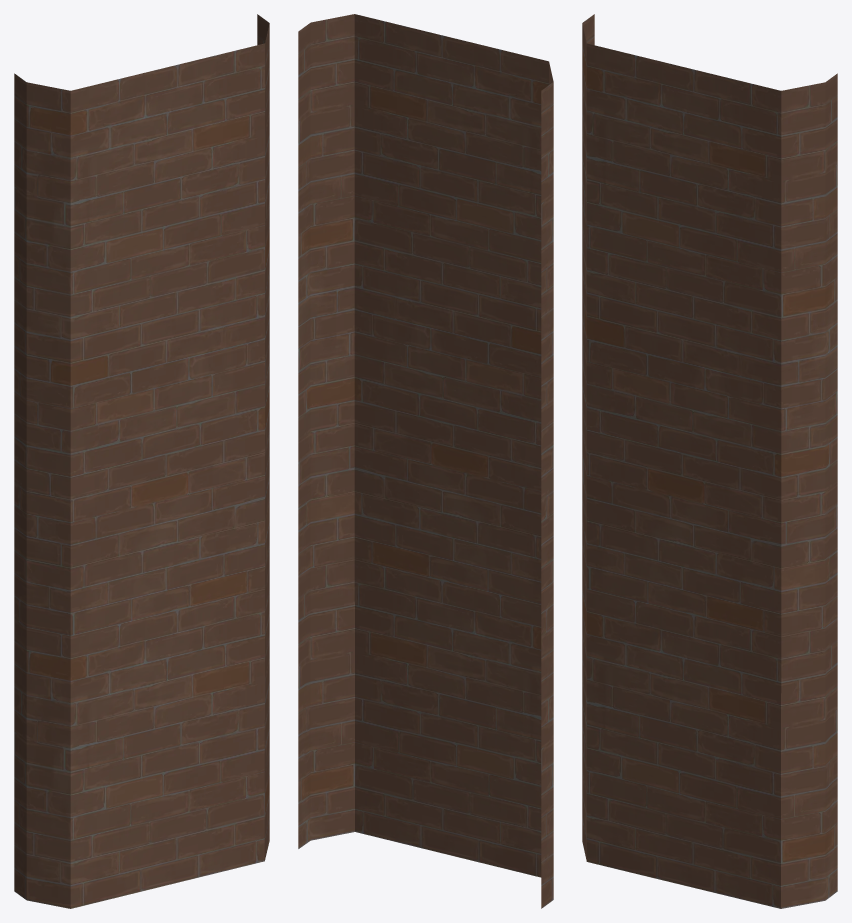
Rendered from Brick_HalfColumn_Center.glb.
3 views of the same model, side by side, from view 1: azimuth 30°, elevation 25°; view 2: azimuth 150°, elevation 25°; view 3: azimuth 330°, elevation 25° (orthographic).
Parts seen in each view (by area): view 1: Brick_HalfColumn_Center; view 2: Brick_HalfColumn_Center; view 3: Brick_HalfColumn_Center.
Boxes of the visible parts, bbox=[...] form: Brick_HalfColumn_Center: bbox=[14, 14, 269, 908]; Brick_HalfColumn_Center: bbox=[298, 14, 553, 908]; Brick_HalfColumn_Center: bbox=[582, 14, 837, 908].
Size of the model in its own units: 0.9324 by 3 by 0.2132.
1 material, 1 textured.
